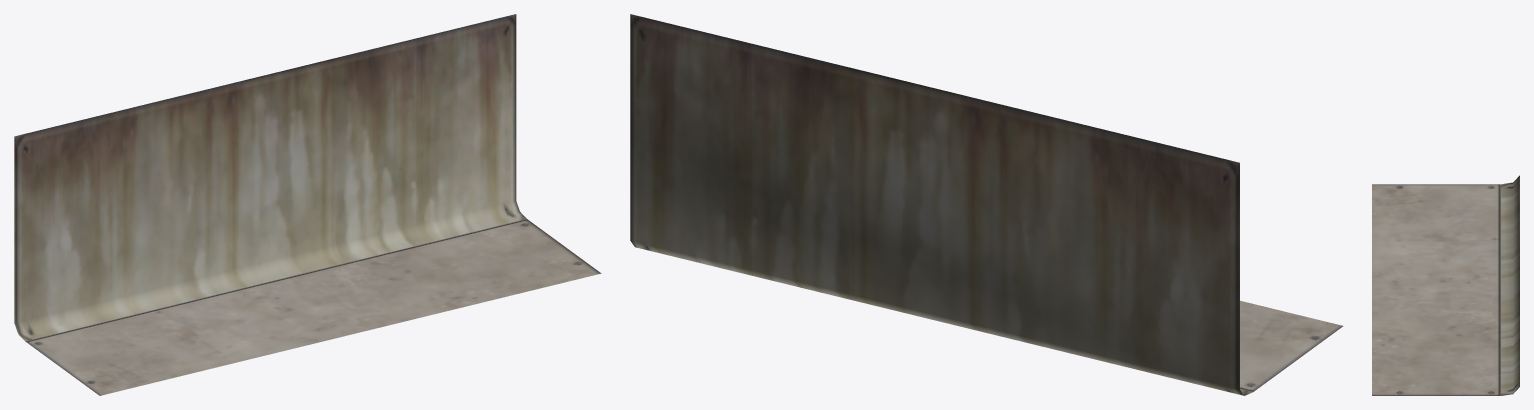
File: lab_ceiling_box_welder_plain.dae
3 renders of one model, left to right at view 1: azimuth 30°, elevation 25°; view 2: azimuth 150°, elevation 25°; view 3: azimuth 270°, elevation 25°, orthographic. The views are drawn at different scales.
Parts seen in each view (by area): view 1: lab_ceiling_box_welder_plain; view 2: lab_ceiling_box_welder_plain; view 3: lab_ceiling_box_welder_plain.
Part boxes in pixels (bbox=[...]): lab_ceiling_box_welder_plain: bbox=[14, 14, 601, 395]; lab_ceiling_box_welder_plain: bbox=[630, 14, 1343, 395]; lab_ceiling_box_welder_plain: bbox=[1372, 175, 1519, 395].
Bounding box in the file's own units: 2 × 0.75 × 0.5901.
